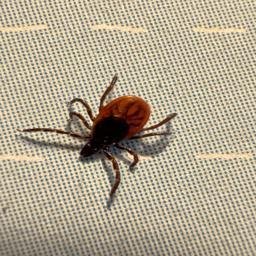Ixodes scapularis: (18, 72, 179, 196)
